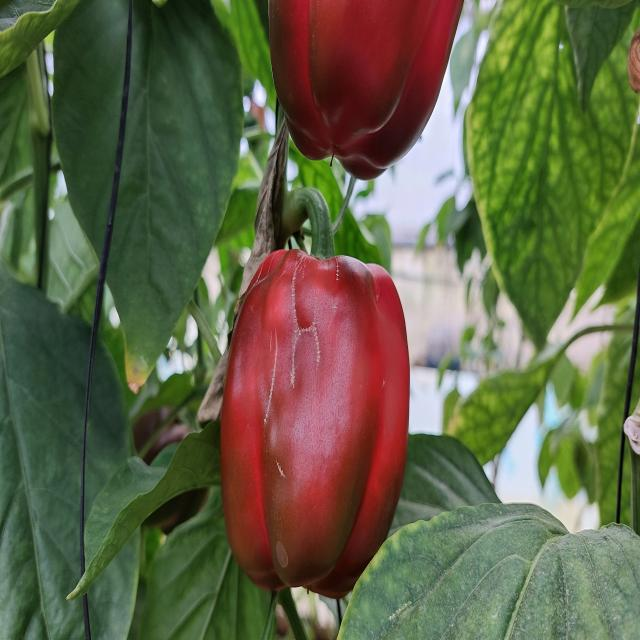Red-Ready-to-Harvest: (221, 248, 417, 585), (270, 0, 469, 167)
